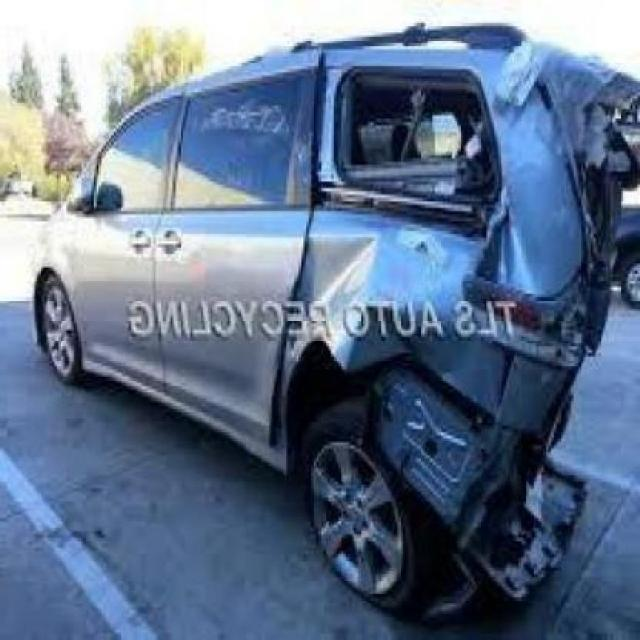damage: (267, 33, 640, 627)
